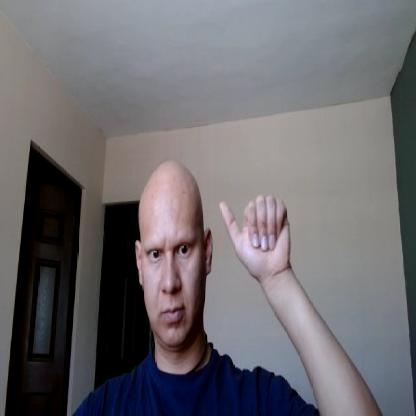A: (219, 193, 292, 276)
